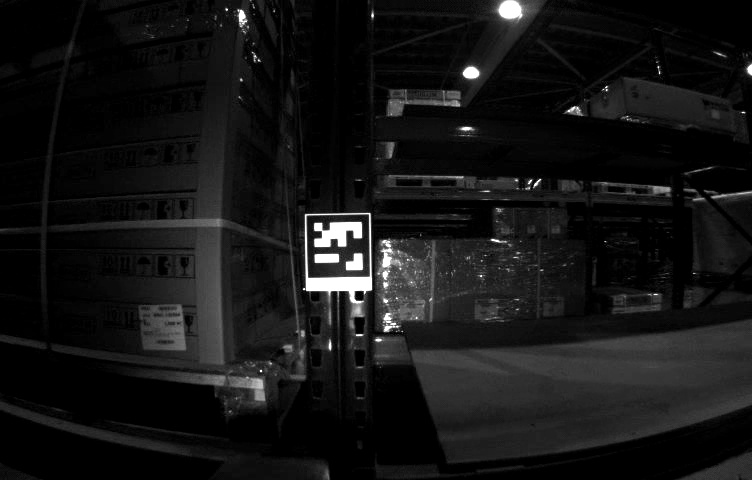True Barcode: (137, 303, 188, 351)
